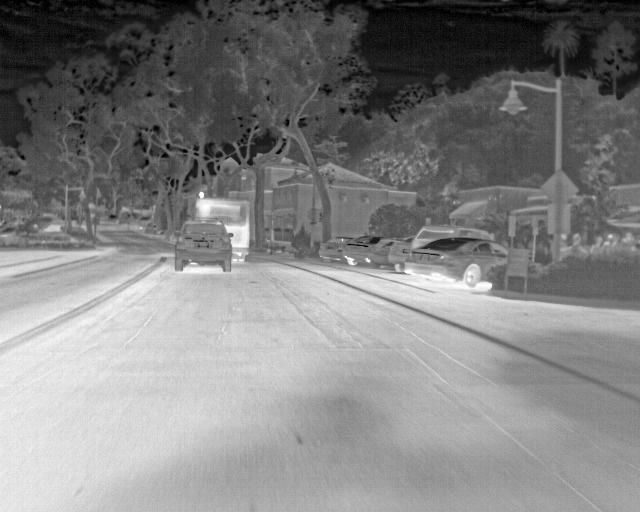car: (402, 237, 508, 288), (172, 220, 233, 274), (410, 226, 496, 250), (347, 235, 390, 269), (317, 235, 348, 262), (389, 241, 405, 272)
